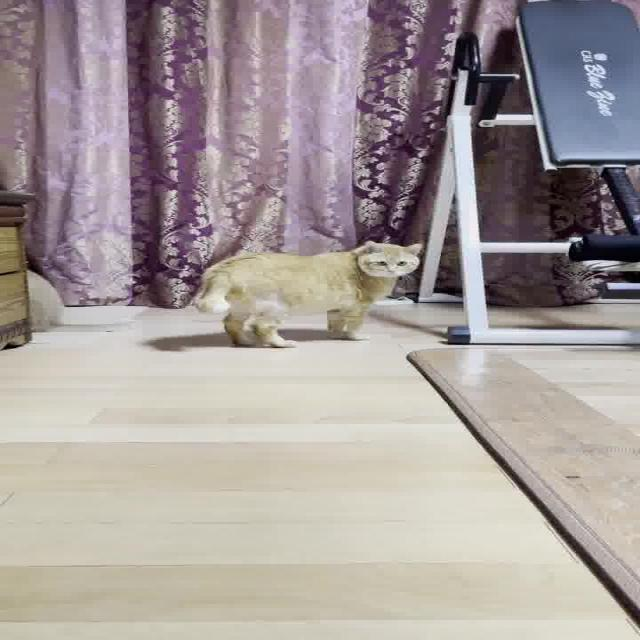cat: (151, 230, 436, 359)
